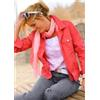giacca: (14, 16, 85, 82)
jeans: (14, 76, 79, 100)
